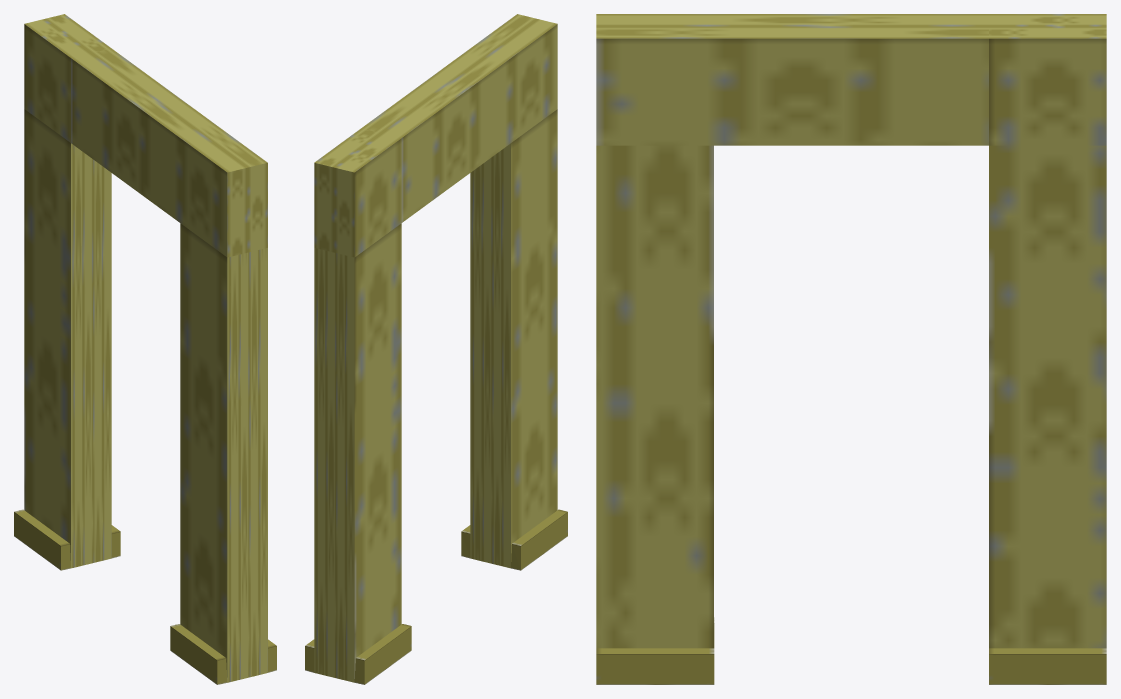
File: DoorUp.obj
3 renders of one model, left to right at view 1: azimuth 30°, elevation 25°; view 2: azimuth 150°, elevation 25°; view 3: azimuth 270°, elevation 25°, orthographic. The views are drawn at different scales.
Parts seen in each view (by area): view 1: DoorUp-col; view 2: DoorUp-col; view 3: DoorUp-col.
Part boxes in pixels (bbox=[...]): DoorUp-col: bbox=[14, 14, 276, 684]; DoorUp-col: bbox=[305, 14, 567, 684]; DoorUp-col: bbox=[596, 14, 1106, 684].
Bounding box in the file's own units: 0.1836 × 1.5 × 1.08.
